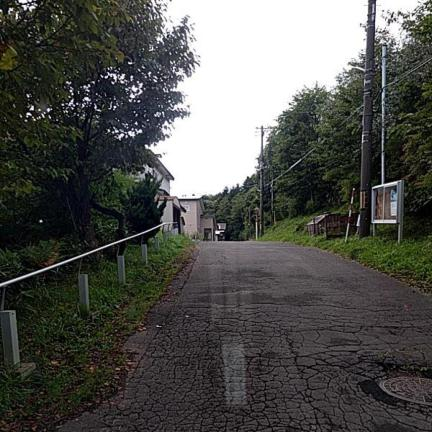Road: (61, 243, 431, 431)
